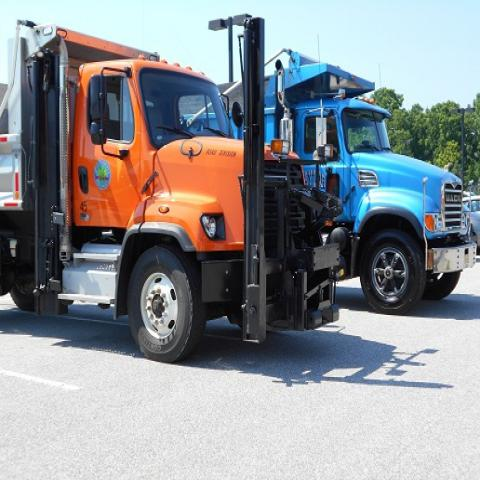car: (462, 194, 479, 250)
truck: (1, 16, 348, 358), (184, 46, 479, 316)
